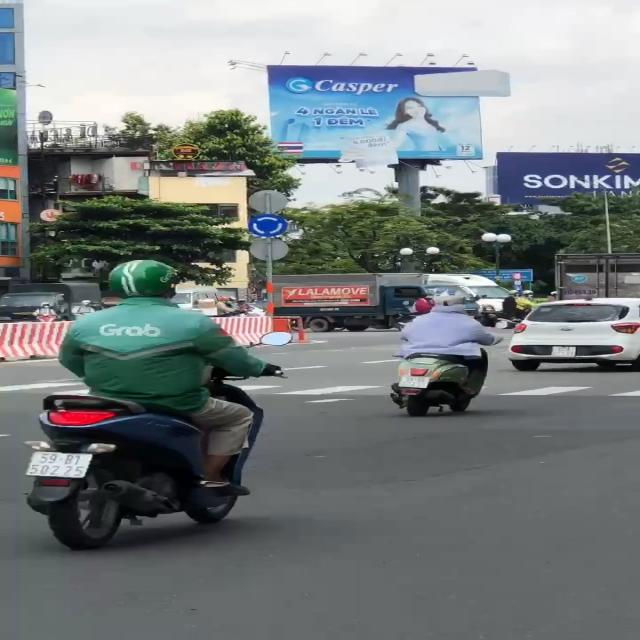Bien bao noi giao nhau chay theo vong xuyen: (246, 213, 289, 238)
